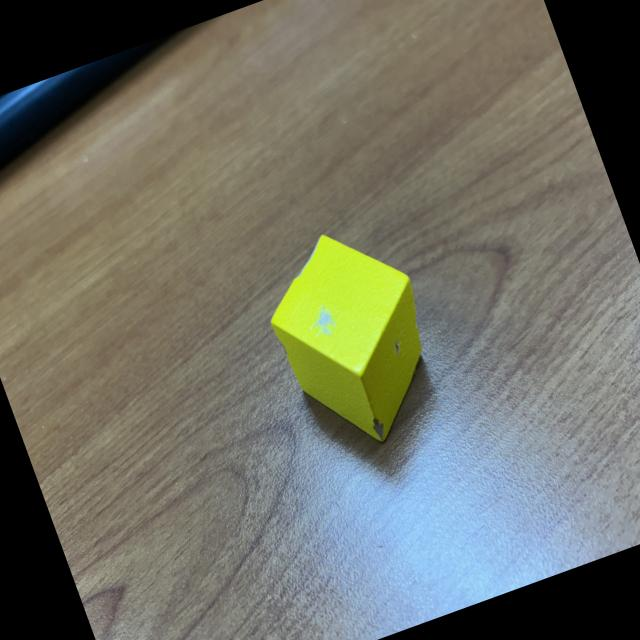broken: (248, 211, 460, 464)
